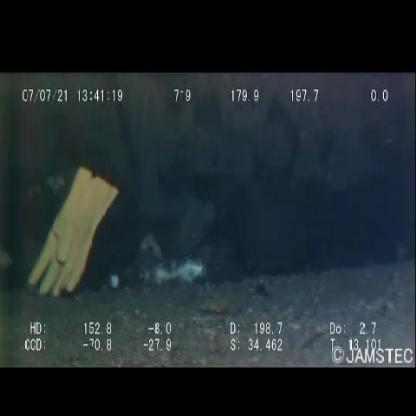Rác: (104, 246, 143, 295)
